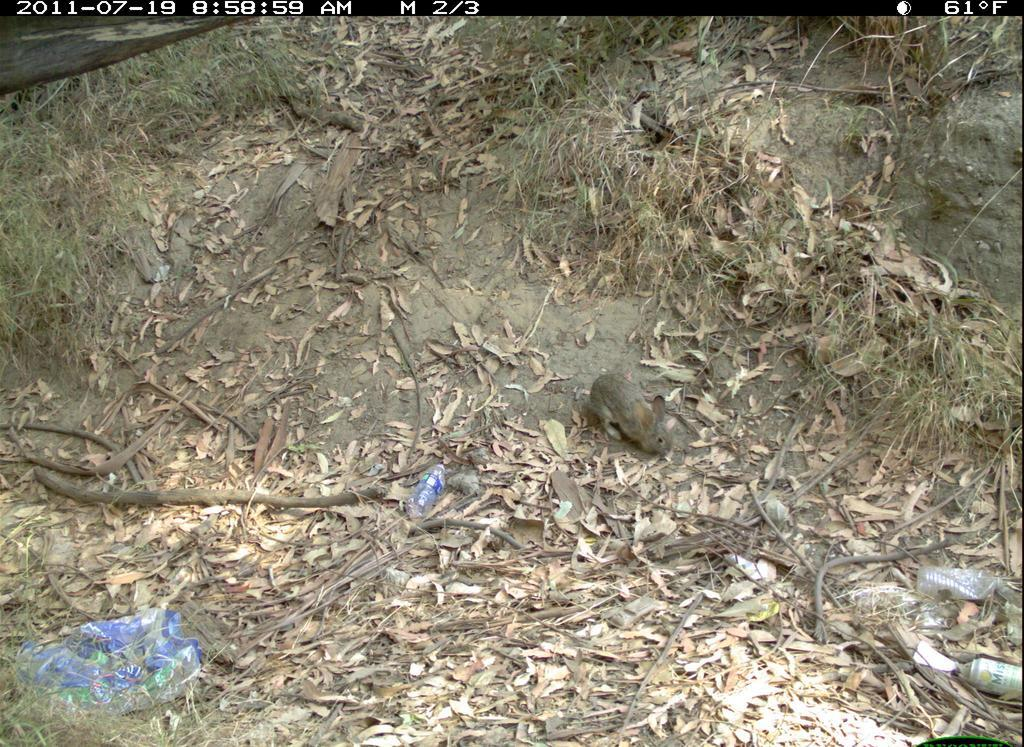rabbit: (570, 364, 680, 474)
